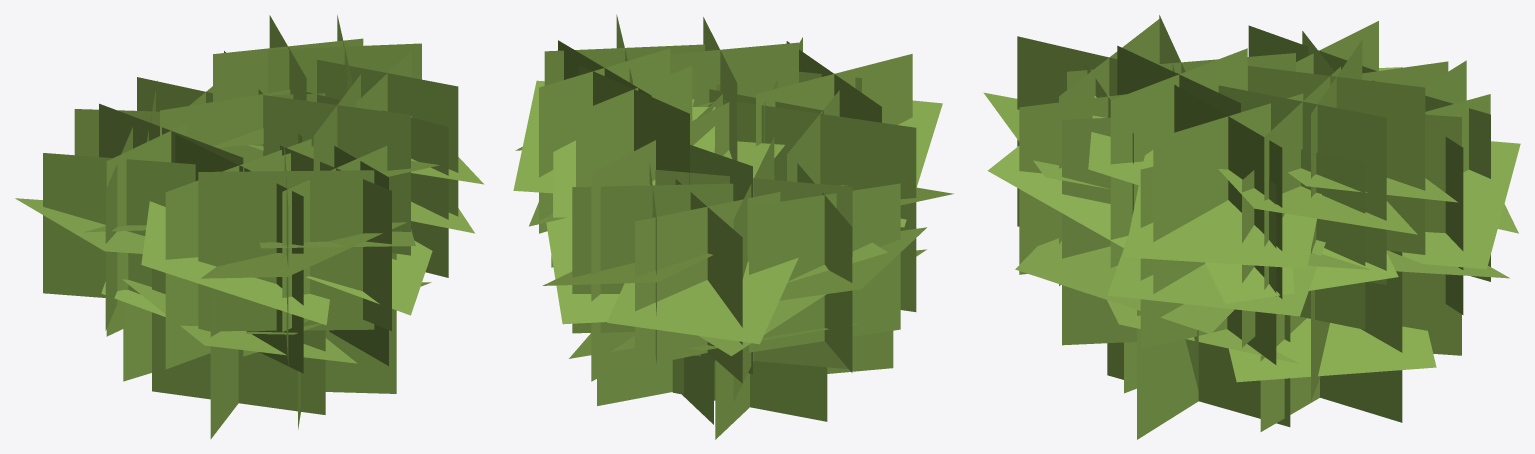
File: noisetier_1_loin.glb
3 renders of one model, left to right at view 1: azimuth 30°, elevation 25°; view 2: azimuth 150°, elevation 25°; view 3: azimuth 270°, elevation 25°, orthographic. The views are drawn at different scales.
Visible parts, largest first — view 1: Noisetier_T1_Leger_Loin; view 2: Noisetier_T1_Leger_Loin; view 3: Noisetier_T1_Leger_Loin.
Boxes of the visible parts, bbox=[...] form: Noisetier_T1_Leger_Loin: bbox=[15, 15, 484, 439]; Noisetier_T1_Leger_Loin: bbox=[513, 14, 953, 439]; Noisetier_T1_Leger_Loin: bbox=[983, 15, 1520, 439].
Size of the model in its own units: 4.57 by 3.42 by 4.77.
